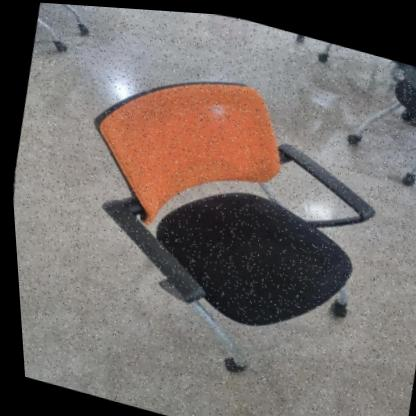Chair: (0, 5, 416, 416)
